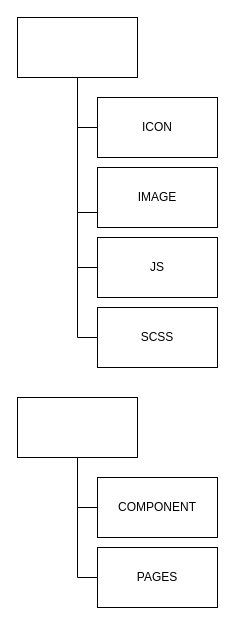
Some shapes in this 235 by 625 pixel diagram are drawn without their labels. The centre of each missing label's shape, as x and y in pixels:
"PUBLIC" goes at pixel 77 47.
"VIEWS" goes at pixel 77 427.
